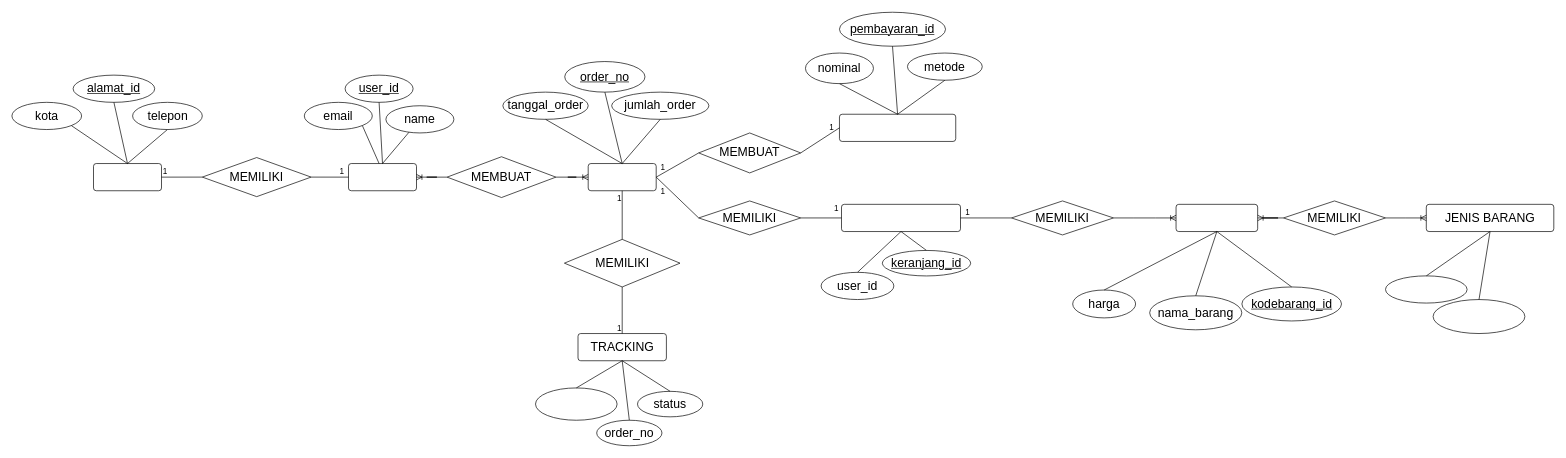
Some shapes in this 1566 by 458 pixel diagram are drawn without their labels. The shapes that lost their labels are listed below. From the top down, each one's centre as x and y in pixels, then its label:
point (897, 127): PEMBAYARAN
point (127, 177): ALAMAT
point (382, 177): USER
point (622, 177): ORDER
point (901, 218): KERANJANG
point (1216, 218): BARANG
point (1426, 289): jenis_id
point (1478, 316): jenis_barang
point (576, 403): tracking_id
